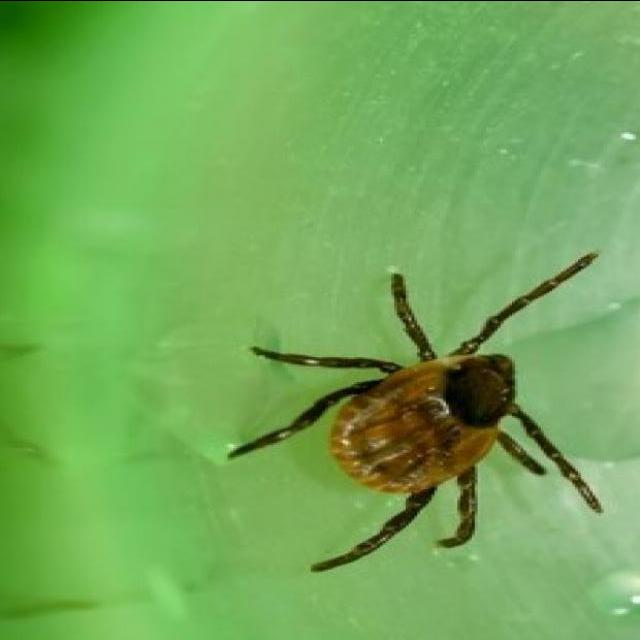Rhipicephalus Sanguineus-F: (228, 251, 604, 570)
